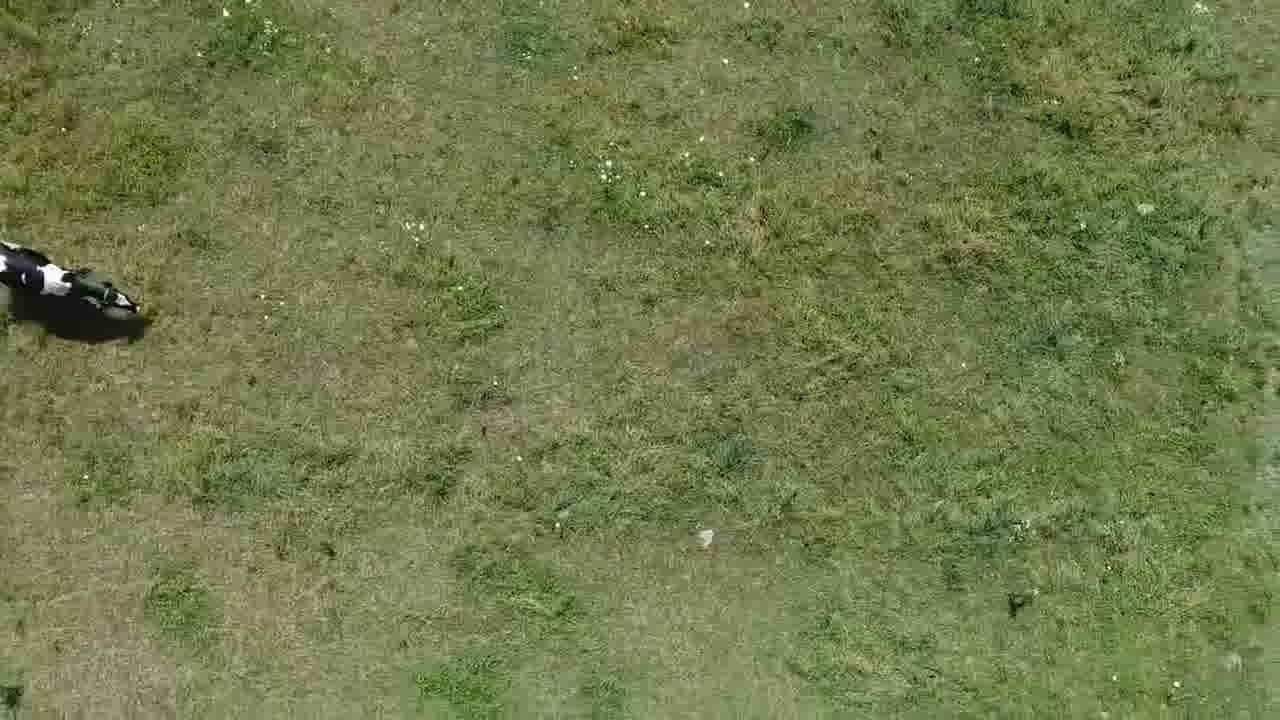cow: (0, 234, 146, 321)
